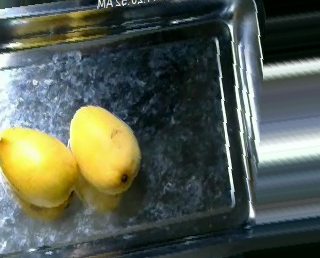Mango: (0, 127, 78, 206), (70, 105, 140, 193)
